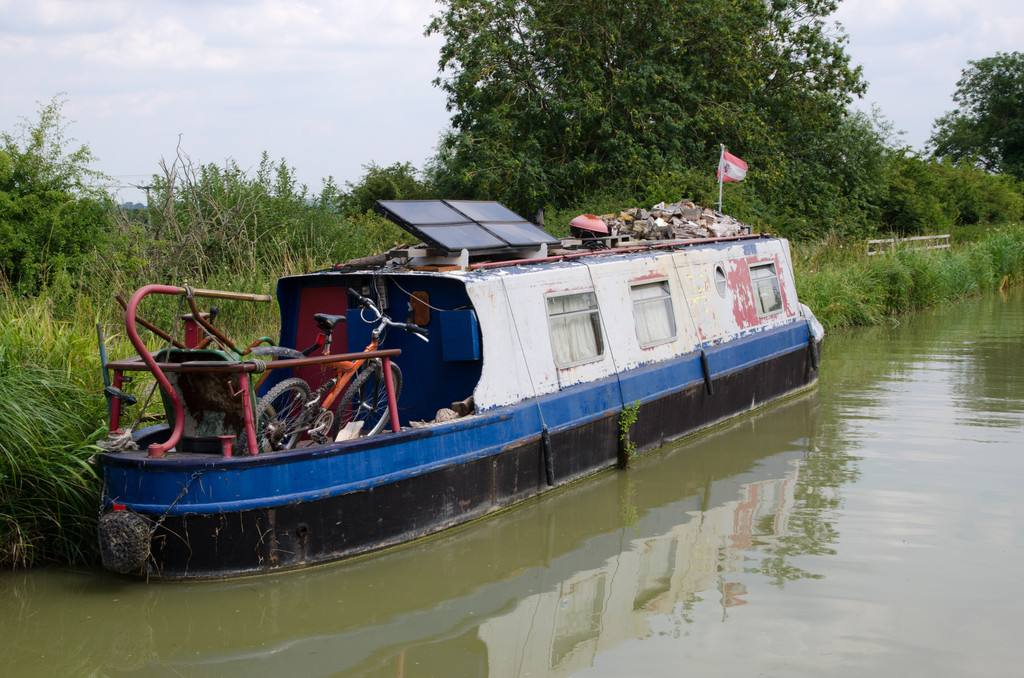boat: (99, 196, 797, 583)
